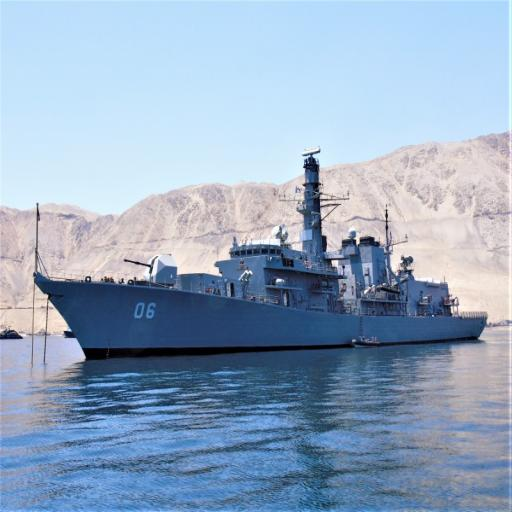Fragata: (32, 142, 491, 367)
